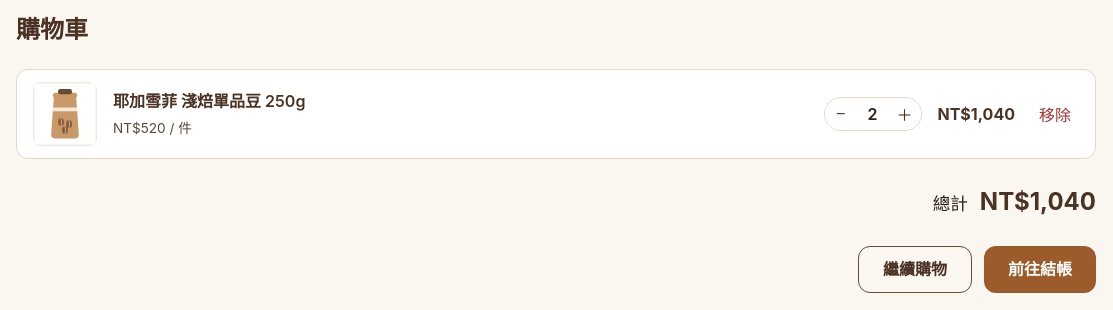
Cart 頁 › 按下移除會把品項拿掉，購物車變回空車狀態
This screenshot has width=1113, height=310.
Click the button "移除".
click(1055, 114)  # box left=1031, top=98, right=1079, bottom=130
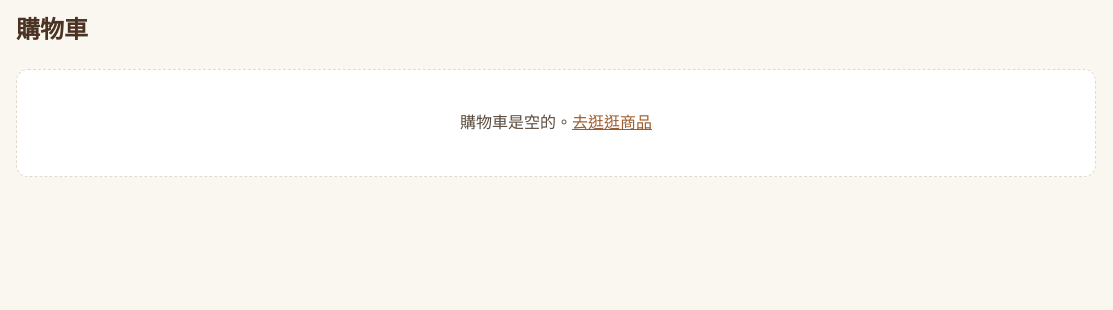
Now the element with test id "cart-empty" is shown, box left=16, top=70, right=1096, bottom=177
